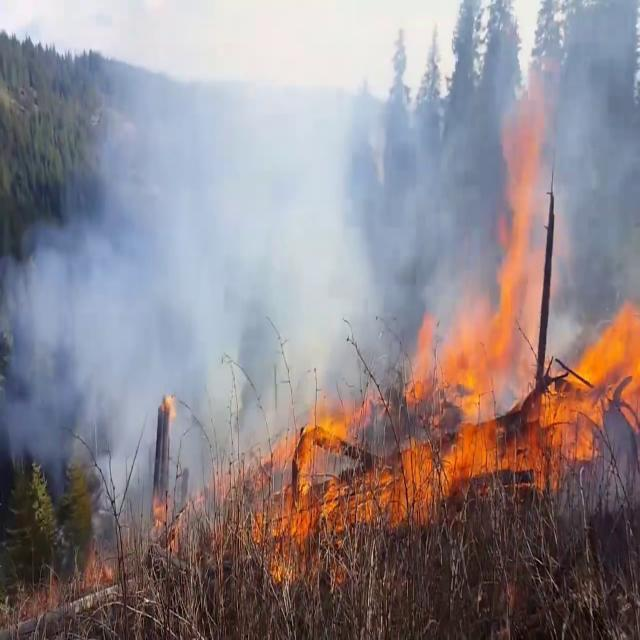Fire: (403, 291, 640, 487), (258, 385, 354, 587), (541, 294, 640, 474)
Smoke: (1, 0, 514, 510)
